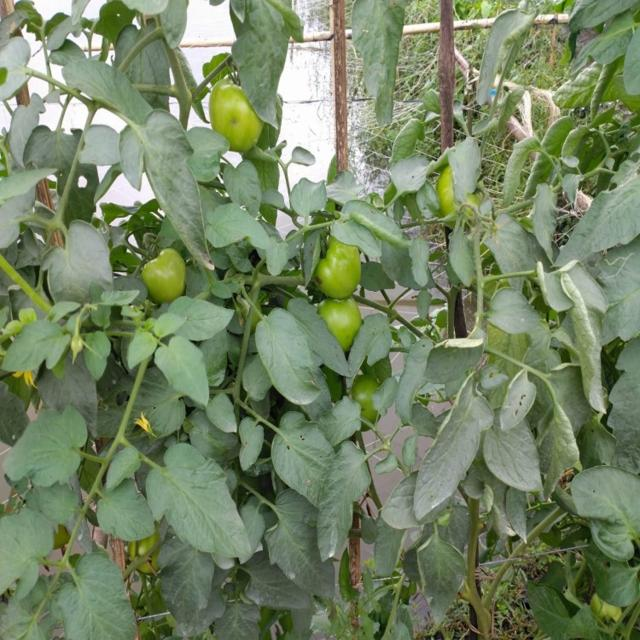tomato: (204, 77, 268, 154), (314, 232, 363, 298), (314, 295, 365, 346), (145, 248, 184, 304), (347, 377, 384, 421), (438, 165, 465, 224), (587, 589, 629, 625), (132, 534, 162, 579)
